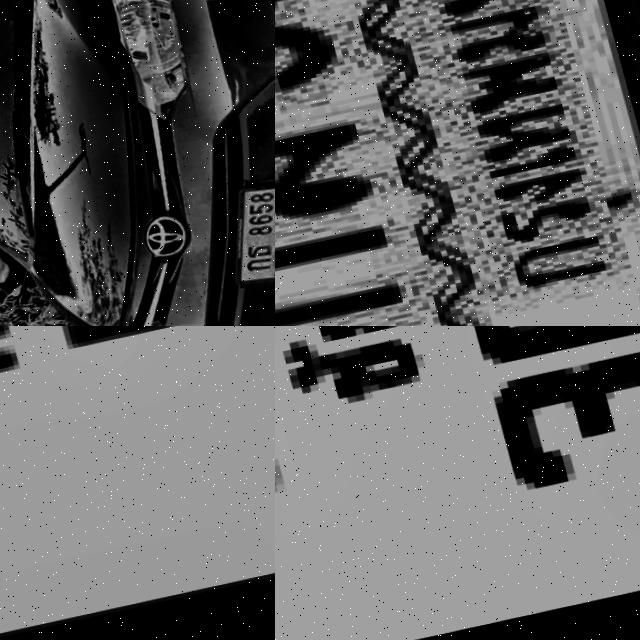license-plate: (275, 0, 640, 326), (275, 326, 640, 640), (0, 326, 275, 640), (196, 167, 275, 299)
